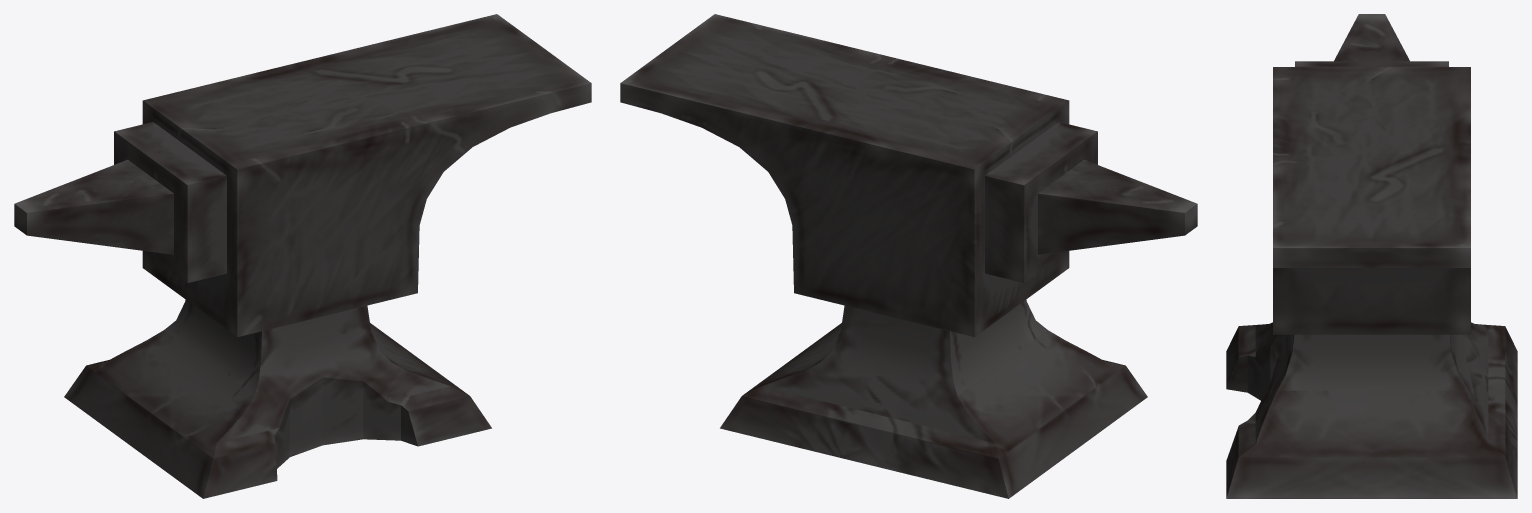
The model's file is anvil.fbx.
The picture shows the model from 3 angles, left to right: view 1: azimuth 30°, elevation 25°; view 2: azimuth 150°, elevation 25°; view 3: azimuth 270°, elevation 25°; orthographic projection. The views are drawn at different scales.
Visible parts, largest first — view 1: anvil_low; view 2: anvil_low; view 3: anvil_low.
Boxes of the visible parts, x1,y1,x2,y2 form: anvil_low: (14,14,591,498); anvil_low: (620,14,1197,498); anvil_low: (1226,14,1517,498).
Bounding box in the file's own units: 511 × 279 × 235.
